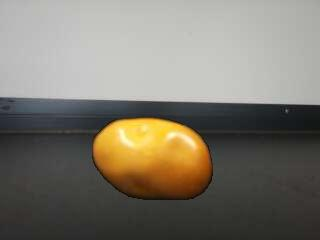Potato: (92, 116, 212, 201)
